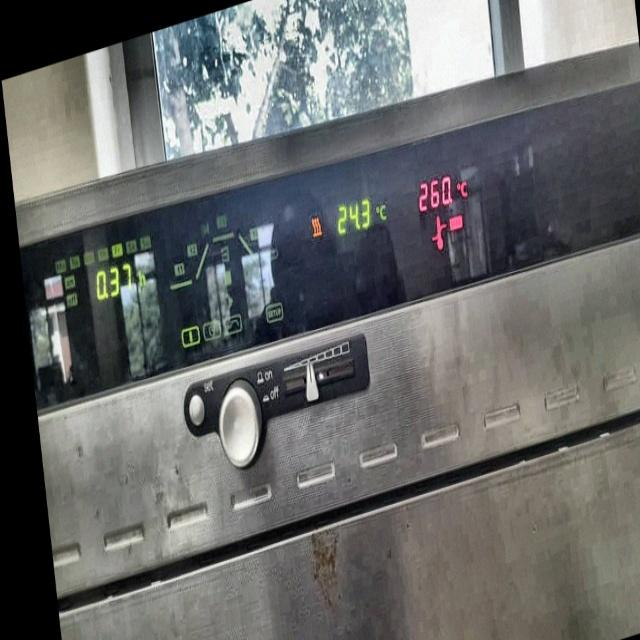Incubator: (15, 0, 640, 640)
